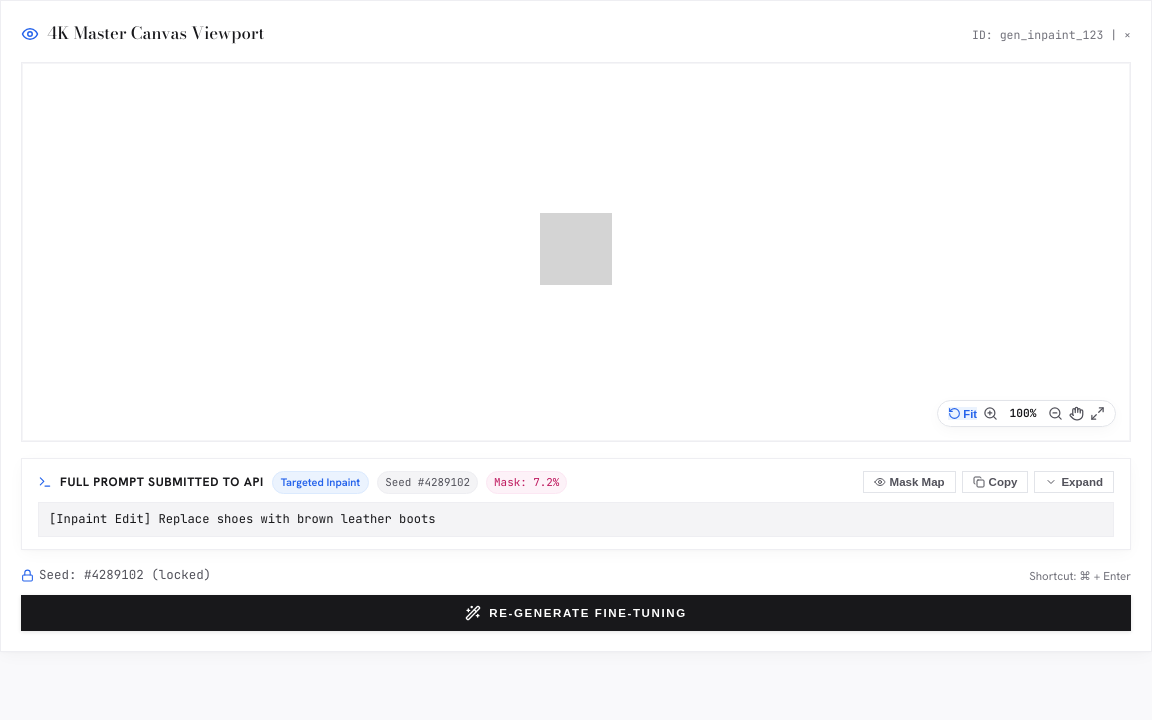
Test: CanvasViewport › renders mask telemetry pill and toggles mask overlay for inpaint generation
Expected: the text "Targeted Inpaint" is shown, [272, 471, 369, 494]
Expected: the text "Mask: 7.2%" is shown, [486, 471, 567, 494]
Note: Click to toggle mask view
Click the button "Mask Map". click: (909, 482)
box: [863, 471, 956, 493]
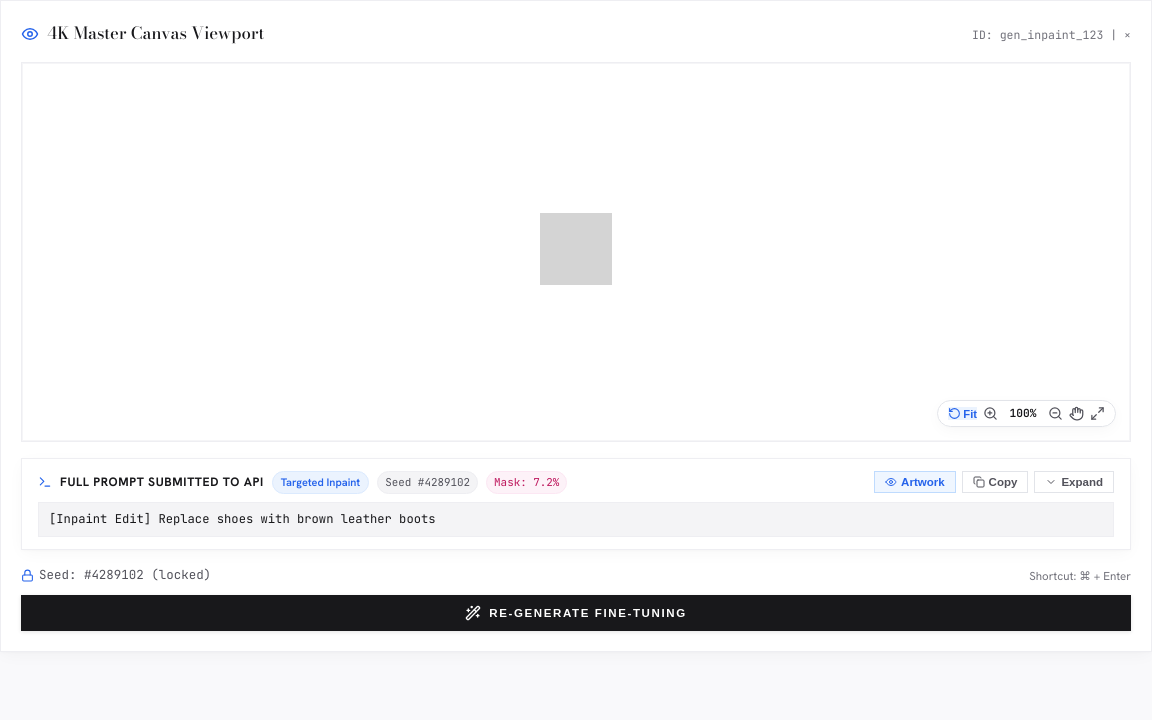
Now the button "Artwork" is shown, box [874, 471, 956, 493]
